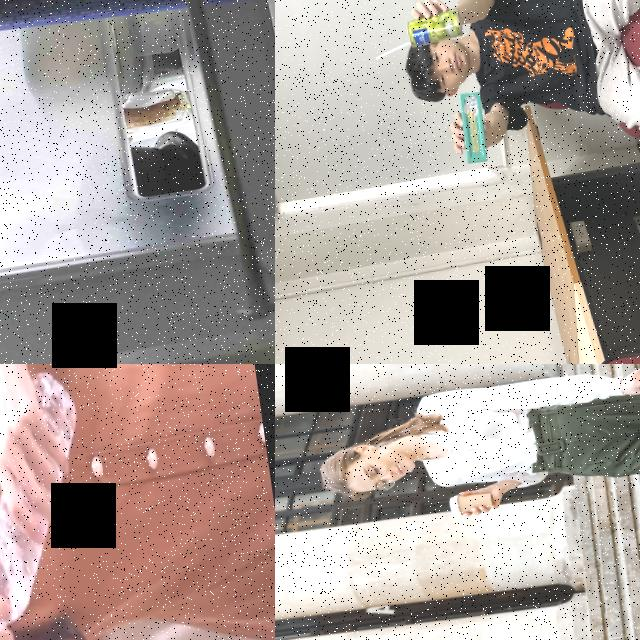bottle: (0, 364, 104, 627)
can: (0, 0, 275, 52), (404, 7, 464, 49)
cup: (448, 489, 495, 517)
